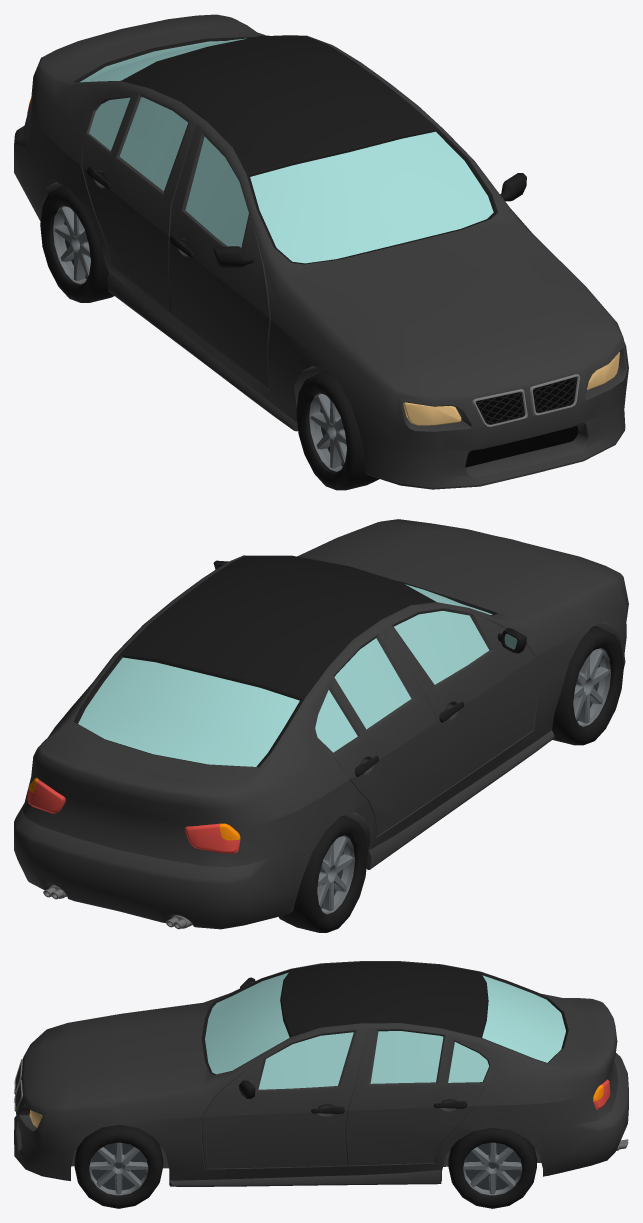
File: SM_Vehicles_06_V1.fbx
3 views of the same model, one above another, from view 1: azimuth 30°, elevation 25°; view 2: azimuth 150°, elevation 25°; view 3: azimuth 270°, elevation 25° (orthographic). The views are drawn at different scales.
Parts seen in each view (by area): view 1: SM_Vehicles_06_V1, SM_Vehicles_06_FR, SM_Vehicles_06_RR; view 2: SM_Vehicles_06_V1, SM_Vehicles_06_RR, SM_Vehicles_06_FR; view 3: SM_Vehicles_06_V1, SM_Vehicles_06_FL, SM_Vehicles_06_RL.
Part boxes in pixels (left/top/right/bottom): SM_Vehicles_06_V1: left=14, top=14, right=628, bottom=489; SM_Vehicles_06_FR: left=296, top=371, right=379, bottom=490; SM_Vehicles_06_RR: left=40, top=185, right=113, bottom=302; SM_Vehicles_06_V1: left=14, top=519, right=628, bottom=929; SM_Vehicles_06_RR: left=279, top=815, right=367, bottom=932; SM_Vehicles_06_FR: left=552, top=626, right=623, bottom=745; SM_Vehicles_06_V1: left=14, top=961, right=628, bottom=1186; SM_Vehicles_06_FL: left=74, top=1124, right=163, bottom=1208; SM_Vehicles_06_RL: left=448, top=1127, right=536, bottom=1208.
Bounding box in the file's own units: 1.85 × 1.37 × 4.32.
